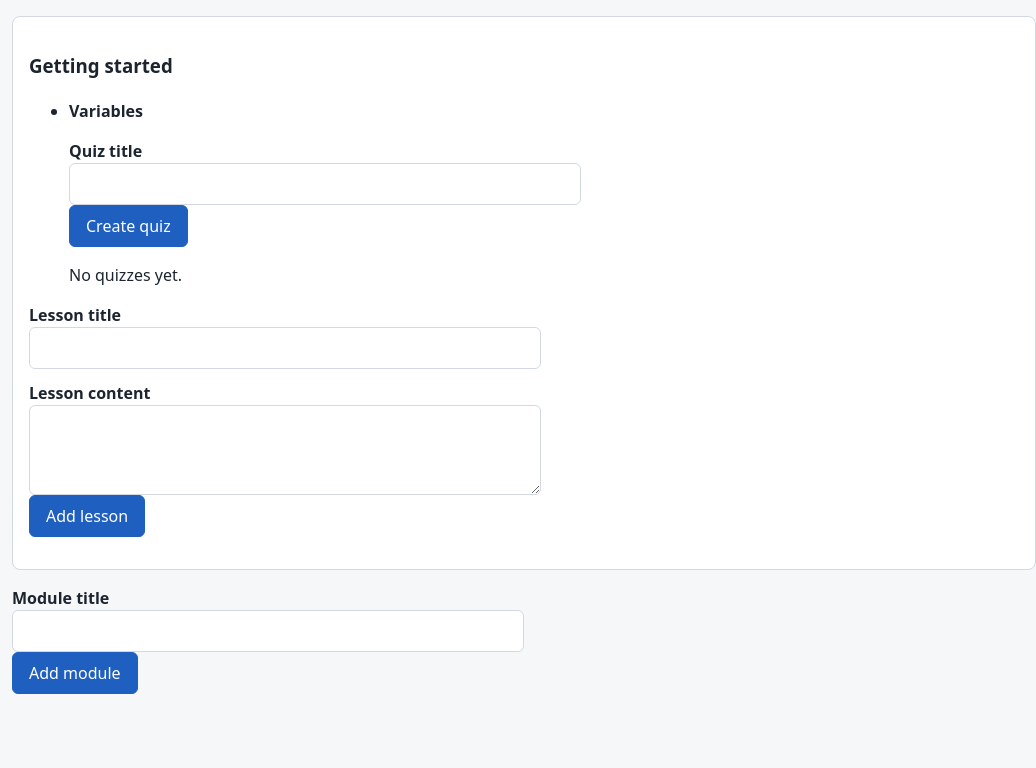
Test case: ContentManager › shows the server error from a refused change
This screenshot has width=1036, height=768.
Type "X" into the field labelled "Module title" at (268, 630), box [12,610,524,652]
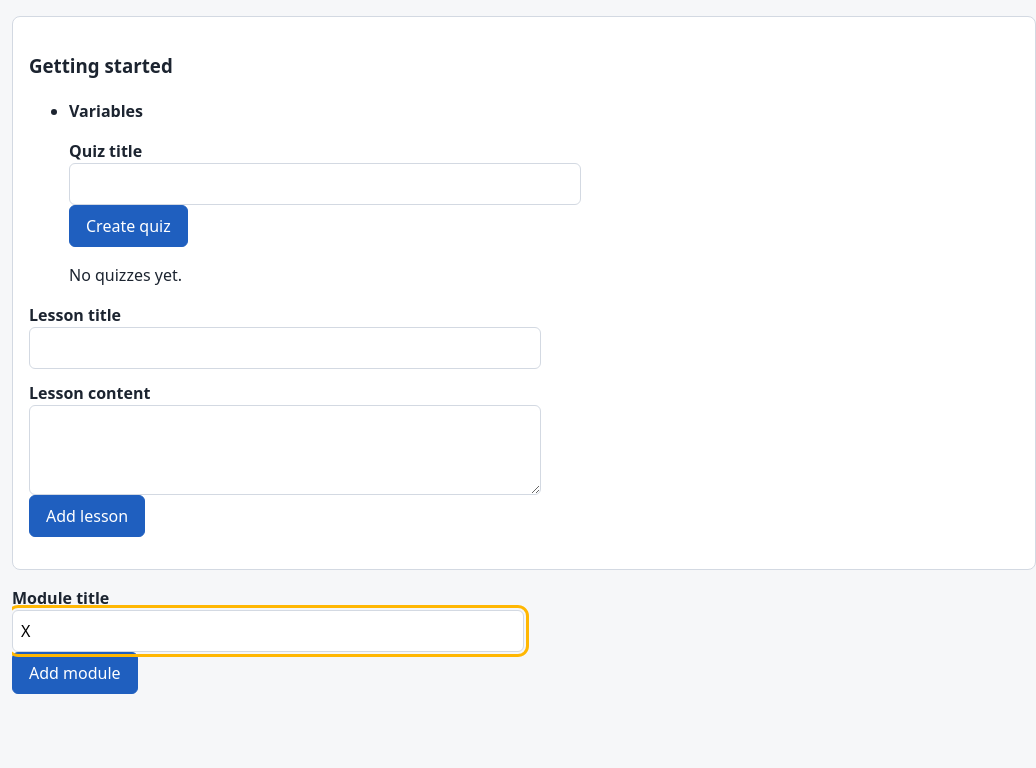
Click the button "Add module" at (75, 672), box [12,652,138,694]
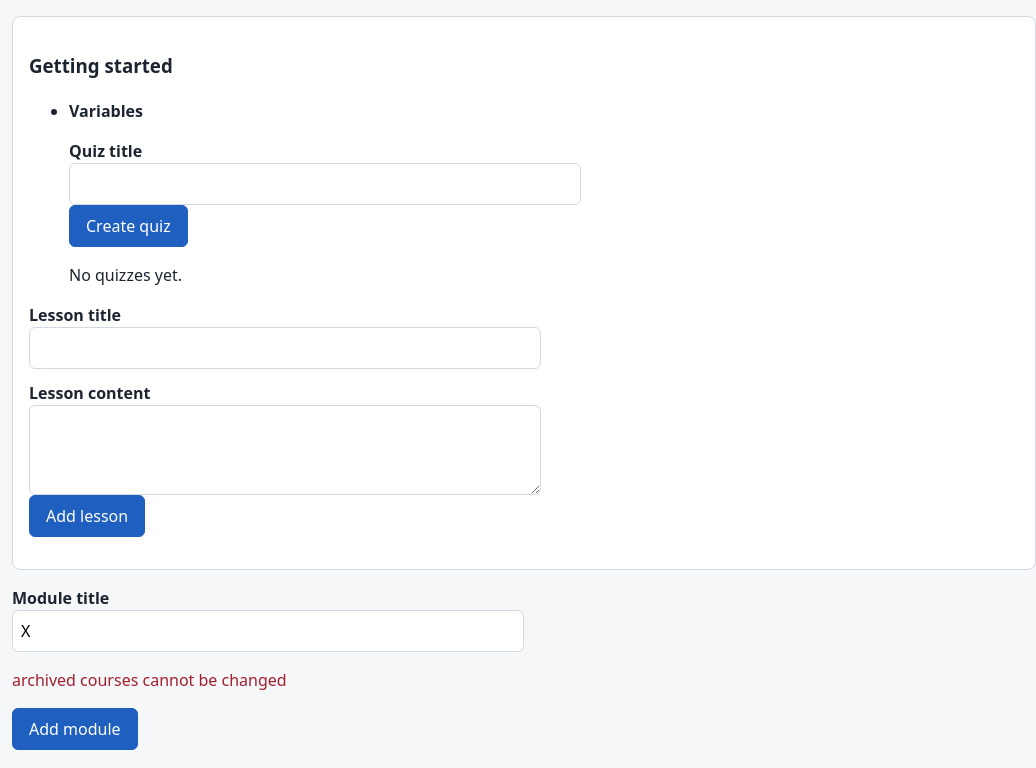
Expected: the message "archived courses cannot be changed" is shown, [12,668,287,690]
